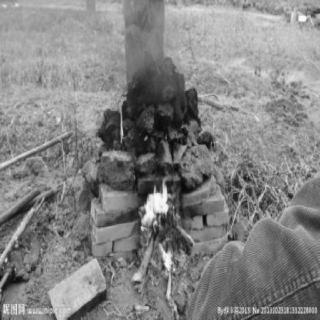Fire: (141, 171, 173, 231)
